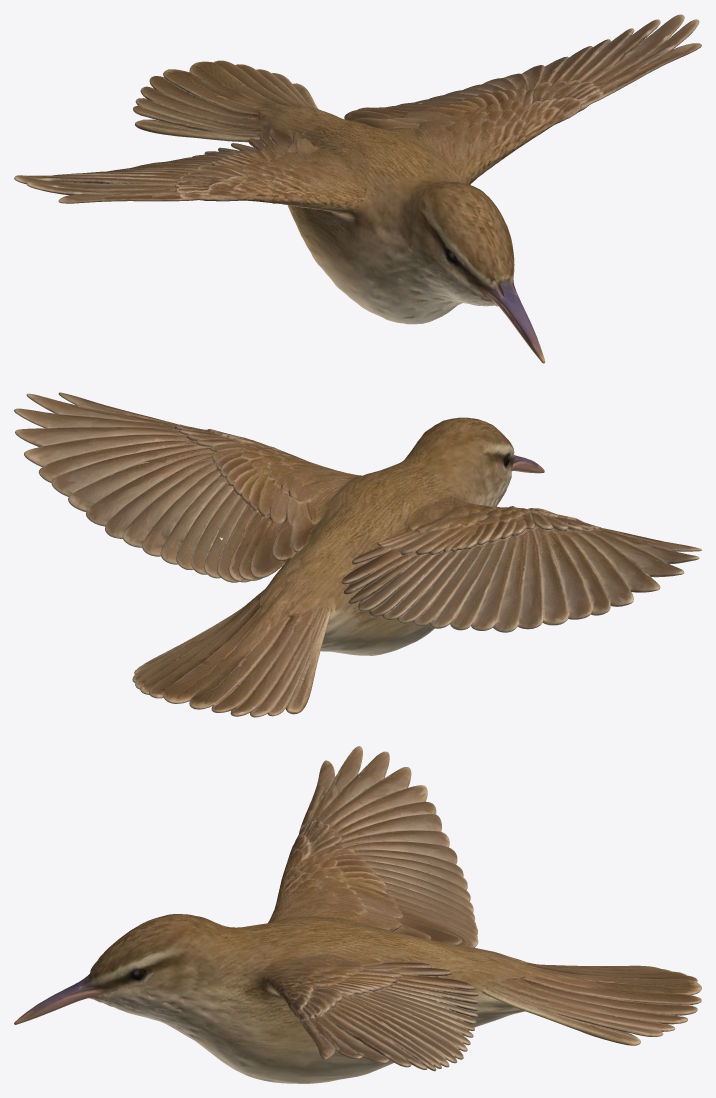
File: Acrocephalus_orientalis.glb
The picture shows the model from 3 angles, top to bottom: view 1: azimuth 30°, elevation 25°; view 2: azimuth 150°, elevation 25°; view 3: azimuth 270°, elevation 25°; orthographic projection. The views are drawn at different scales.
Visible parts, largest first — view 1: orient; view 2: orient; view 3: orient.
Boxes of the visible parts, x1,y1,x2,y2 form: orient: [14, 14, 701, 363]; orient: [14, 392, 701, 717]; orient: [14, 746, 701, 1083].
Bounding box in the file's own units: 0.5 × 0.1329 × 0.4663.
Materials: 1 (1 with a texture image).
